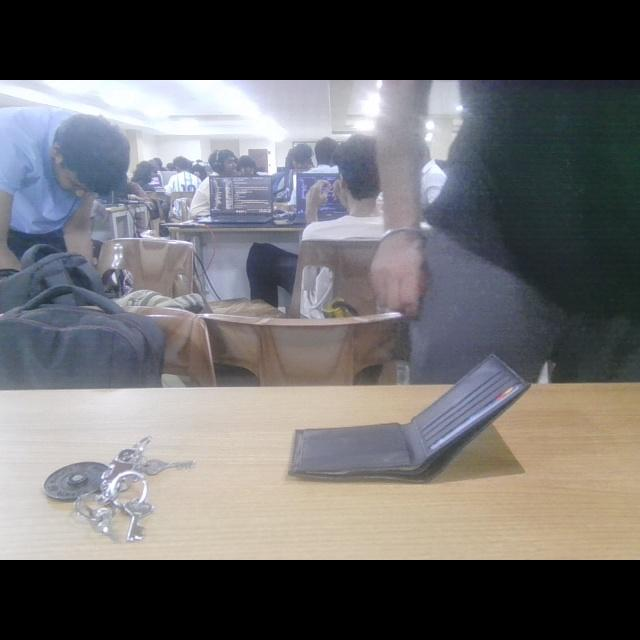keys: (40, 430, 202, 548)
wallet: (276, 354, 552, 496)
